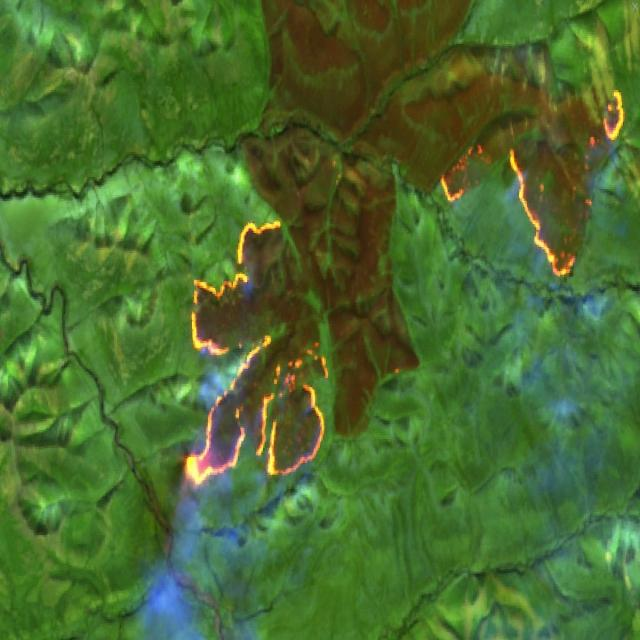fire: (177, 211, 331, 482), (435, 83, 627, 282)
